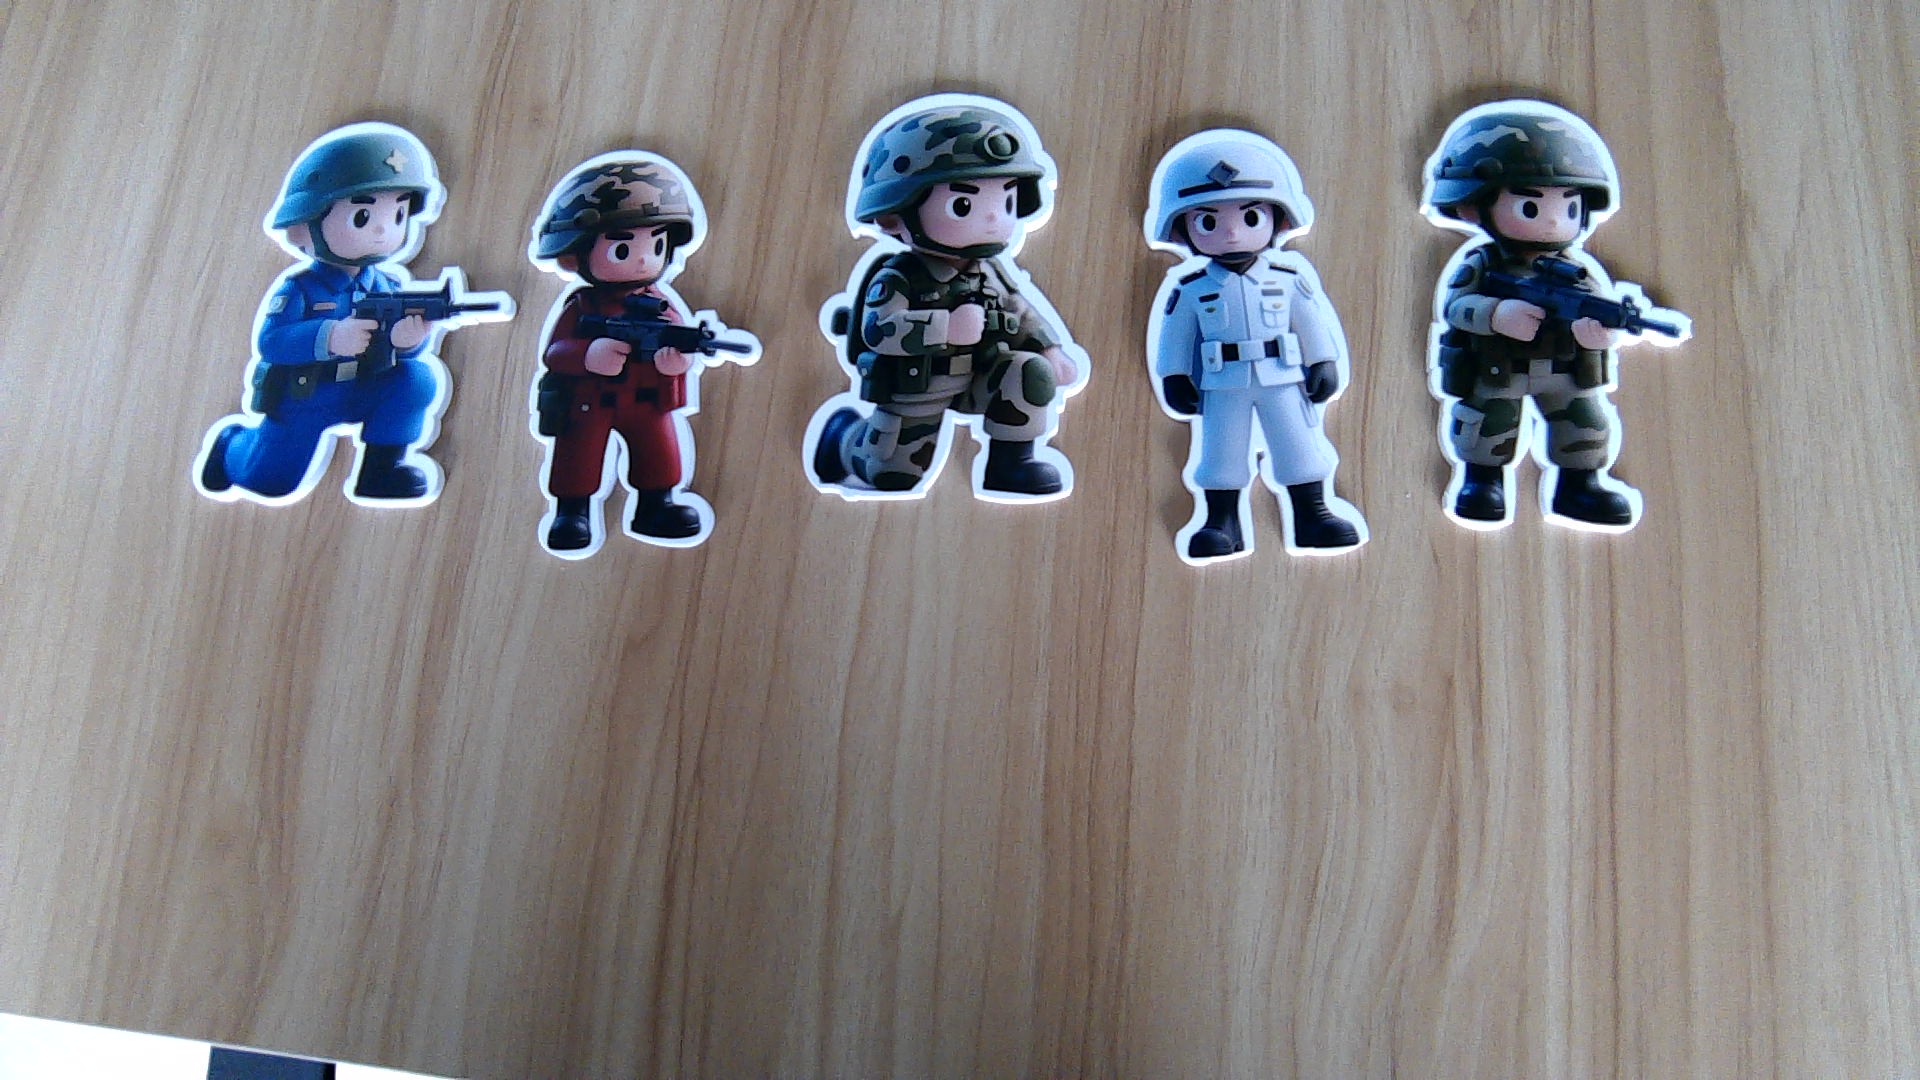人质: (1139, 252, 1373, 574)
友军: (1422, 243, 1697, 543), (796, 258, 1095, 513)
敌人1: (521, 285, 756, 564)
敌人2: (185, 266, 508, 516)
